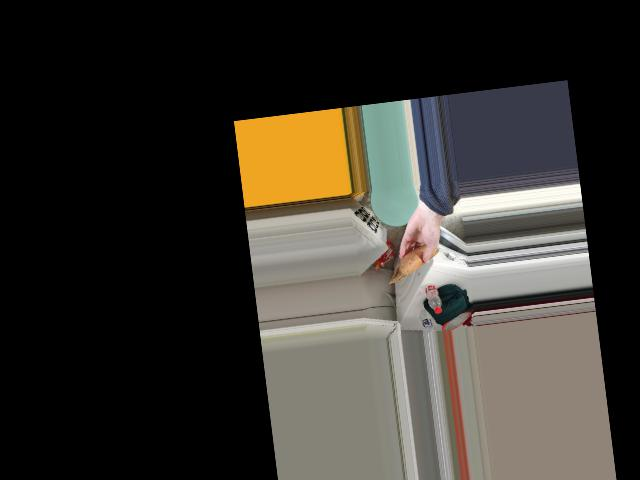sweet_potato: (400, 241, 435, 273)
